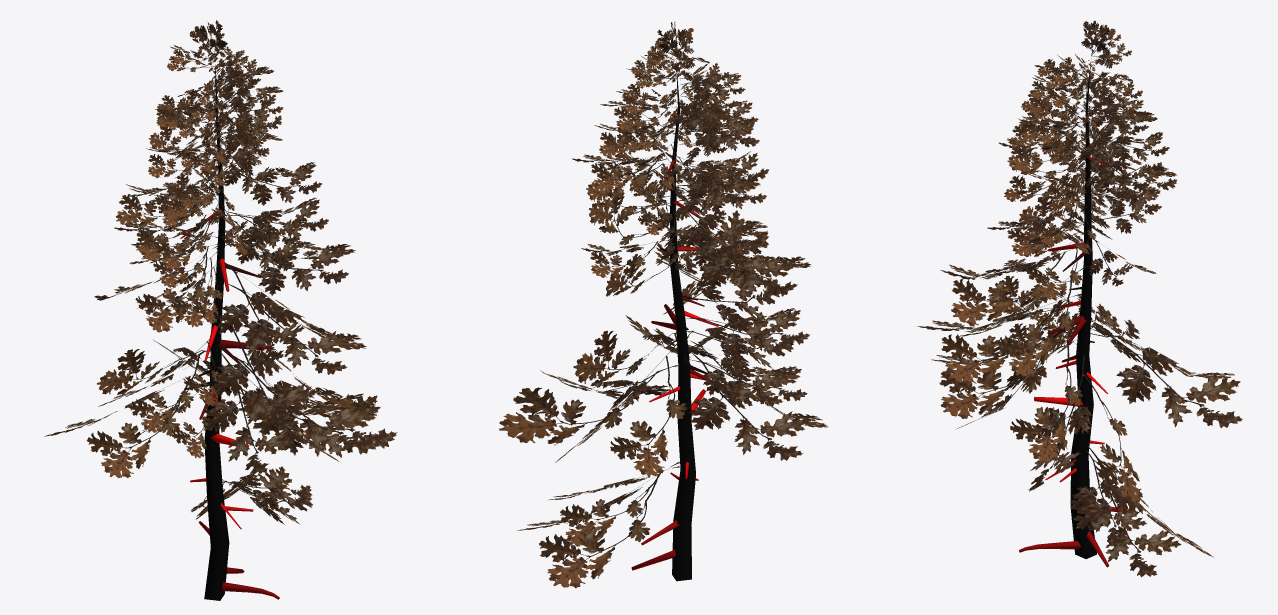
The model's file is spruce4 lod0.FBX.
3 views of the same model, side by side, from view 1: azimuth 30°, elevation 25°; view 2: azimuth 150°, elevation 25°; view 3: azimuth 270°, elevation 25° (orthographic). The views are drawn at different scales.
Visible parts, largest first — view 1: spruce4; view 2: spruce4; view 3: spruce4.
Part boxes in pixels (x1,y1,x2,y2): spruce4: [44, 20, 397, 600]; spruce4: [499, 21, 828, 588]; spruce4: [917, 20, 1242, 577].
Bounding box in the file's own units: 72973 × 107781 × 67719.
